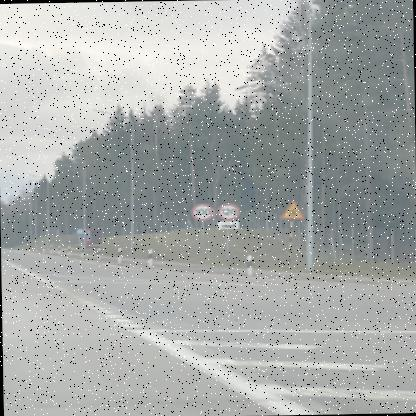speedlimit: (188, 202, 213, 218), (216, 202, 236, 218)
